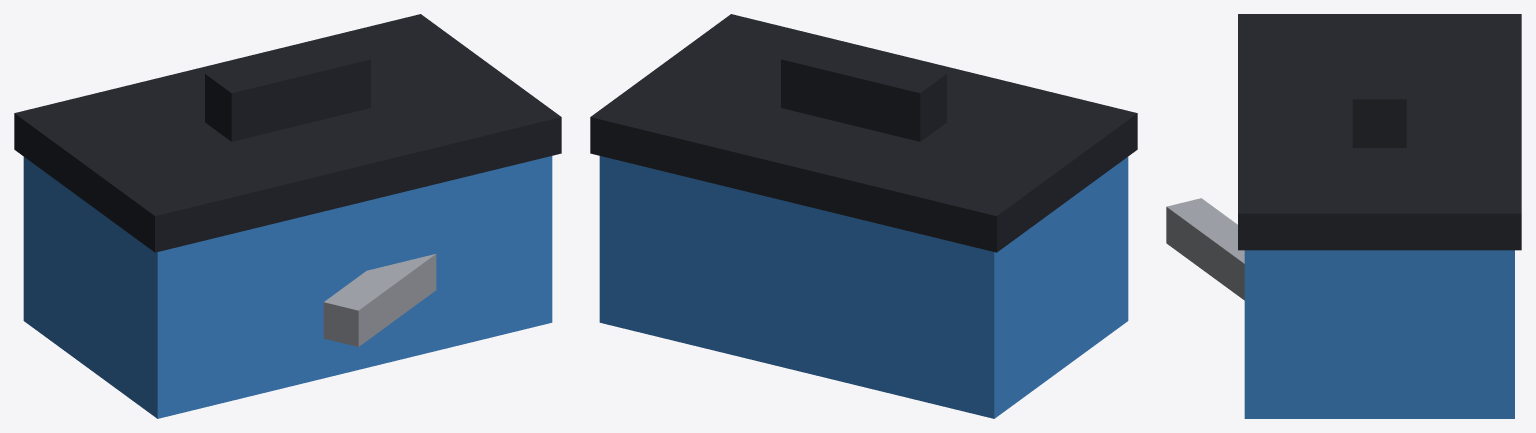
The model's file is armour_repair_kit.glb.
3 views of the same model, side by side, from view 1: azimuth 30°, elevation 25°; view 2: azimuth 150°, elevation 25°; view 3: azimuth 270°, elevation 25° (orthographic).
Visible parts, largest first — view 1: model; view 2: model; view 3: model.
Boxes of the visible parts, x1,y1,x2,y2 form: model: (14,14,561,418); model: (590,14,1137,418); model: (1166,14,1521,418).
Bounding box in the file's own units: 0.35 × 0.21 × 0.263.
